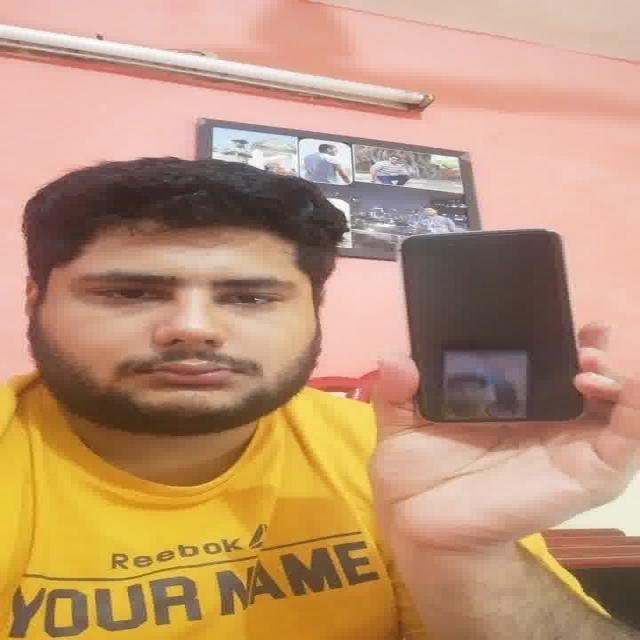Phone: (393, 226, 587, 423)
